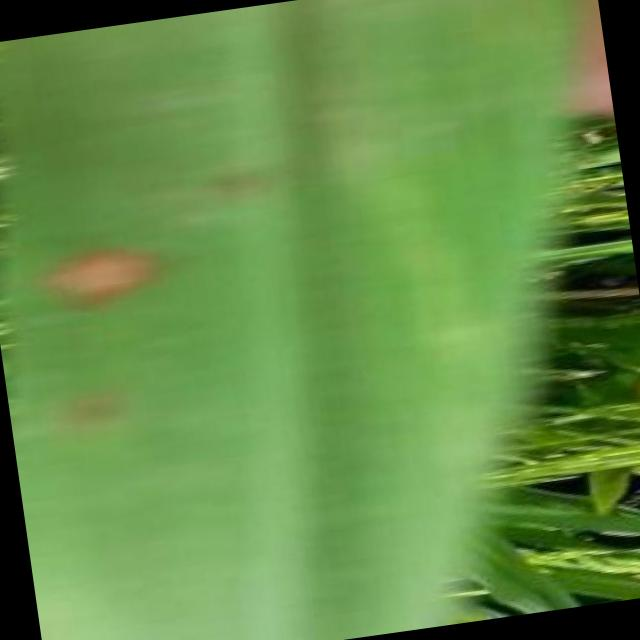Rice_Blast: (18, 177, 176, 330)
